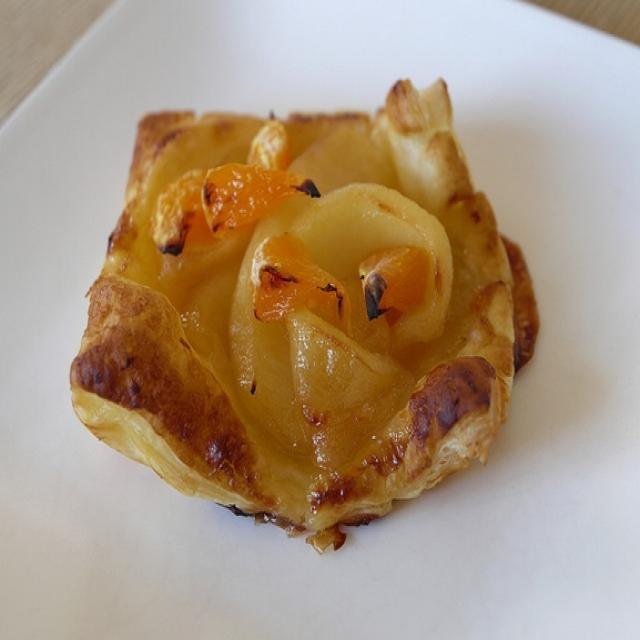Apple: (83, 78, 545, 534)
